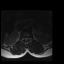CCS_stenosis: (25, 36, 26, 42)
LFS_normal: (28, 37, 29, 40)
LLS_stenosis: (26, 37, 28, 40)
RFS_stenosis: (23, 37, 24, 40)
RLS_normal: (24, 36, 25, 40)
